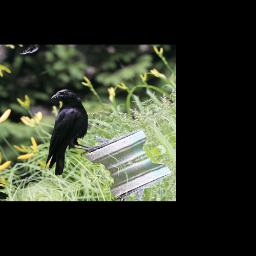Crow: (6, 85, 117, 180)
